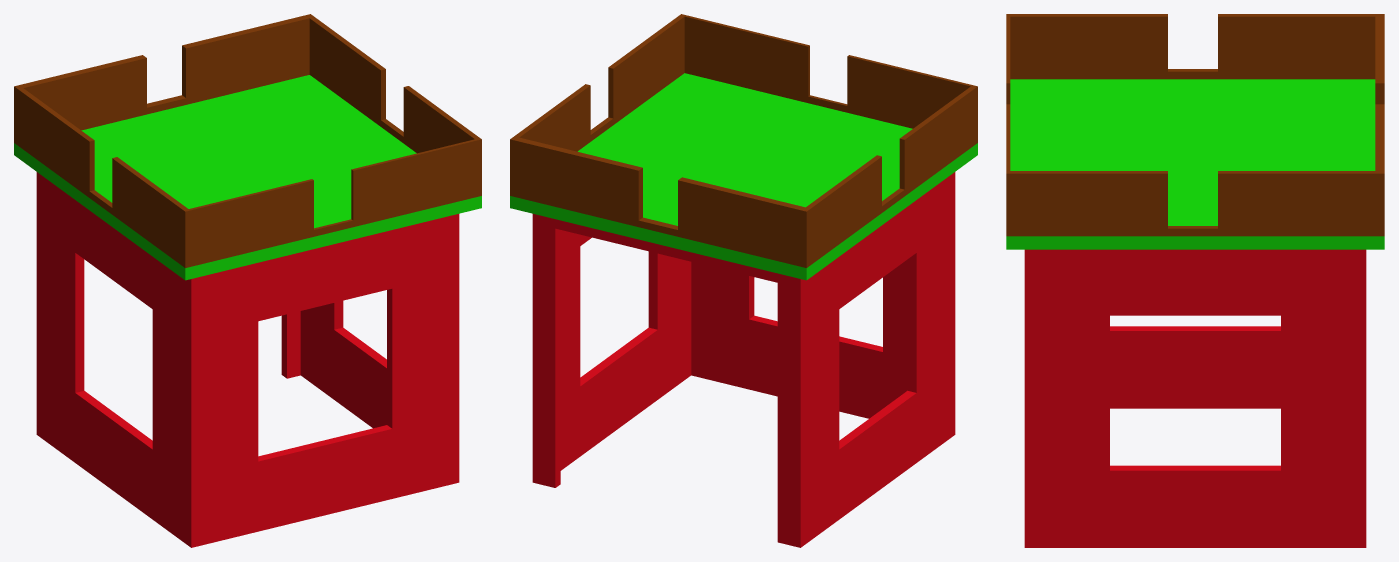
The model's file is BaseCubeWRoofDone.fbx.
3 renders of one model, left to right at view 1: azimuth 30°, elevation 25°; view 2: azimuth 150°, elevation 25°; view 3: azimuth 270°, elevation 25°, orthographic. The views are drawn at different scales.
Visible parts, largest first — view 1: UTM_Roof, 4WayWindow_01; view 2: UTM_Roof, 4WayWindow_01; view 3: UTM_Roof, 4WayWindow_01.
Part boxes in pixels (x1,y1,x2,y2): UTM_Roof: (14,14,481,547); 4WayWindow_01: (36,172,391,547); UTM_Roof: (510,14,977,547); 4WayWindow_01: (532,172,955,547); UTM_Roof: (1006,14,1384,547); 4WayWindow_01: (1024,249,1366,547).
Bounding box in the file's own units: 443 × 493 × 443.
